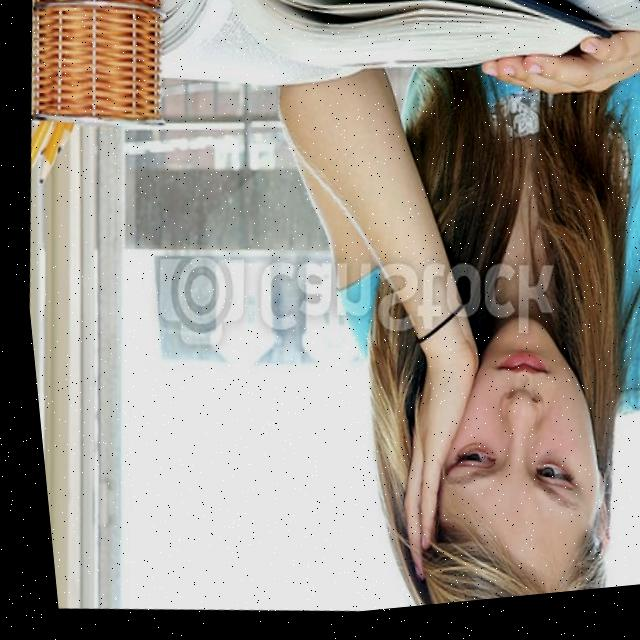studying-person: (88, 0, 640, 633)
